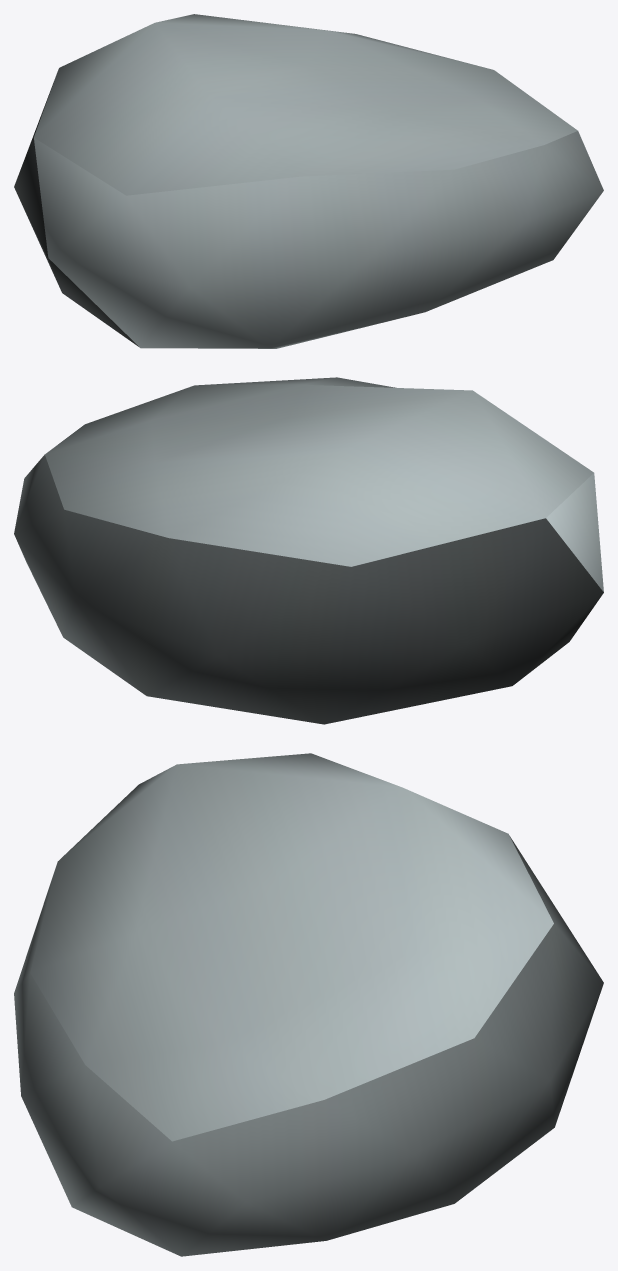
Rendered from Small_Rock_3.fbx.
The picture shows the model from 3 angles, top to bottom: view 1: azimuth 30°, elevation 25°; view 2: azimuth 150°, elevation 25°; view 3: azimuth 270°, elevation 25°; orthographic projection. The views are drawn at different scales.
Parts seen in each view (by area): view 1: Small Rock 3; view 2: Small Rock 3; view 3: Small Rock 3.
Part boxes in pixels (x1,y1,x2,y2): Small Rock 3: (14,14,603,348); Small Rock 3: (14,377,603,724); Small Rock 3: (14,753,603,1256).
Bounding box in the file's own units: 138 × 60.77 × 105.
